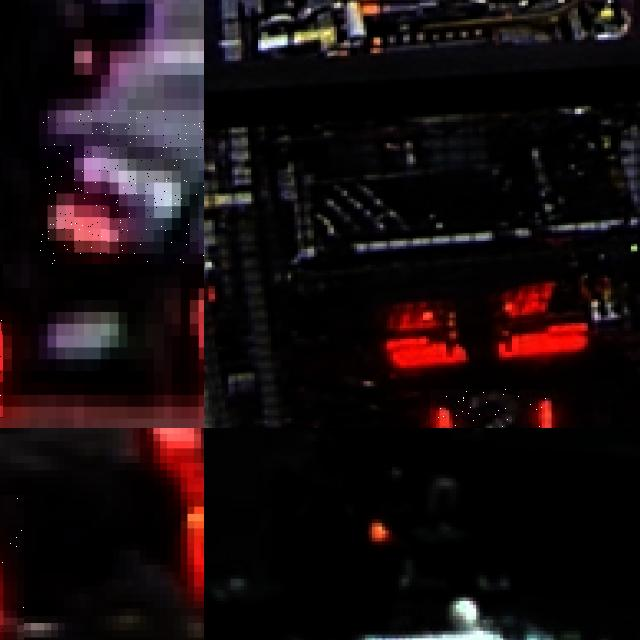R2: (429, 389, 558, 428)
R3: (38, 110, 204, 264)
